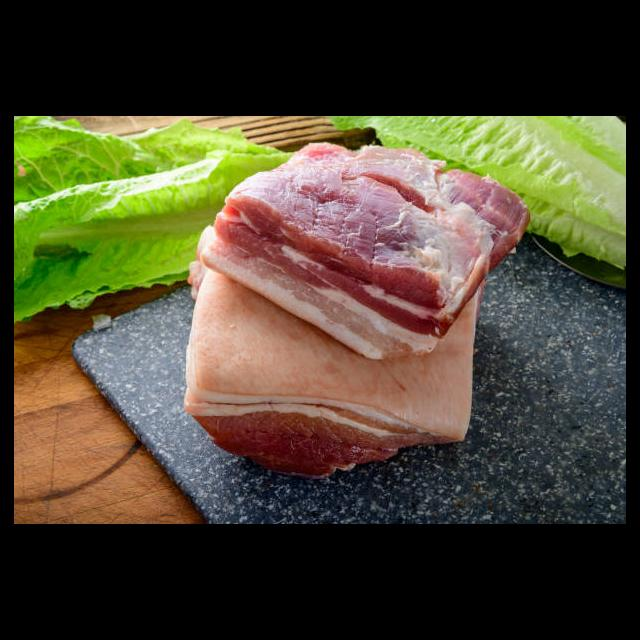pork: (212, 144, 513, 351), (182, 359, 474, 476)
